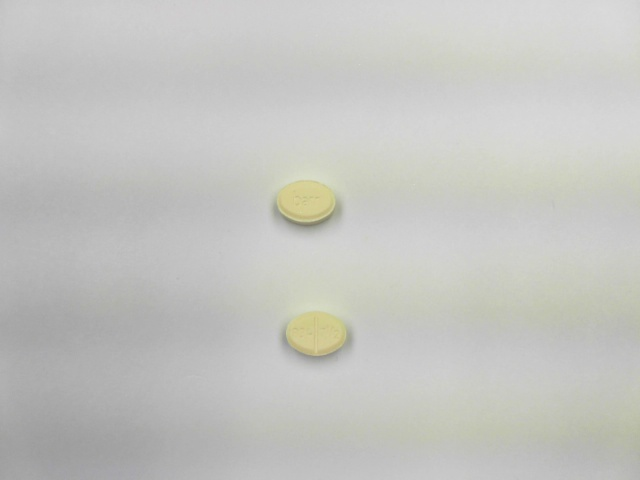2: (334, 329, 341, 341)
3: (299, 325, 305, 340)
a: (301, 195, 309, 208)
b: (291, 187, 301, 209)
|: (311, 309, 321, 357)
